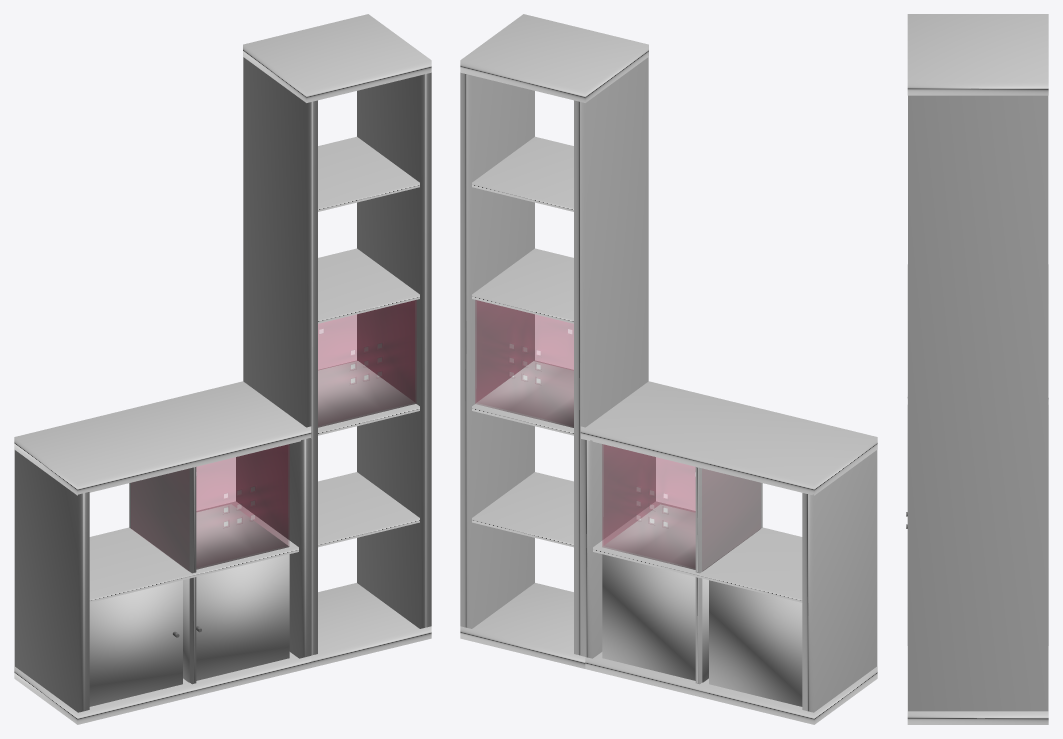
File: shelf.fbx
3 views of the same model, side by side, from view 1: azimuth 30°, elevation 25°; view 2: azimuth 150°, elevation 25°; view 3: azimuth 270°, elevation 25° (orthographic). The views are drawn at different scales.
Parts seen in each view (by area): view 1: Cube_003, Cube_002, Cube_009, Cube_010, Cube_020, Cube_016, Cube_001, Cube_017, Cube_018, Cube_011, Cube_012, Cube (+7 smaller); view 2: Cube_003, Cube_002, Cube_009, Cube_010, Cube_020, Cube_016, Cube_001, Cube_017, Cube_018, Cube_011, Cube_012, Cube (+7 smaller); view 3: Cube_003, Cube_001, Cube, Cube_011, Cube_009.
Boxes of the visible parts, x1=… form: Cube_003: x1=357, y1=72, x2=431, y2=628; Cube_002: x1=243, y1=57, x2=317, y2=655; Cube_009: x1=14, y1=381, x2=311, y2=495; Cube_010: x1=14, y1=450, x2=89, y2=712; Cube_020: x1=183, y1=554, x2=289, y2=682; Cube_016: x1=318, y1=300, x2=416, y2=427; Cube_001: x1=243, y1=14, x2=431, y2=102; Cube_017: x1=89, y1=580, x2=182, y2=706; Cube_018: x1=131, y1=444, x2=289, y2=570; Cube_011: x1=236, y1=438, x2=310, y2=658; Cube_012: x1=89, y1=501, x2=298, y2=602; Cube: x1=306, y1=583, x2=431, y2=668; Cube_003: x1=460, y1=72, x2=534, y2=628; Cube_002: x1=574, y1=57, x2=648, y2=655; Cube_009: x1=580, y1=381, x2=877, y2=495; Cube_010: x1=802, y1=450, x2=877, y2=712; Cube_020: x1=602, y1=554, x2=708, y2=682; Cube_016: x1=475, y1=300, x2=573, y2=427; Cube_001: x1=460, y1=14, x2=648, y2=102; Cube_017: x1=709, y1=580, x2=802, y2=706; Cube_018: x1=602, y1=444, x2=759, y2=571; Cube_011: x1=581, y1=439, x2=655, y2=658; Cube_012: x1=593, y1=501, x2=802, y2=602; Cube: x1=460, y1=583, x2=585, y2=668; Cube_003: x1=908, y1=95, x2=1048, y2=711; Cube_001: x1=907, y1=14, x2=1048, y2=95; Cube: x1=907, y1=646, x2=1048, y2=724; Cube_011: x1=907, y1=405, x2=1048, y2=645; Cube_009: x1=907, y1=264, x2=1048, y2=404.
Size of the model in its own units: 6.08 by 9.49 by 1.9.
